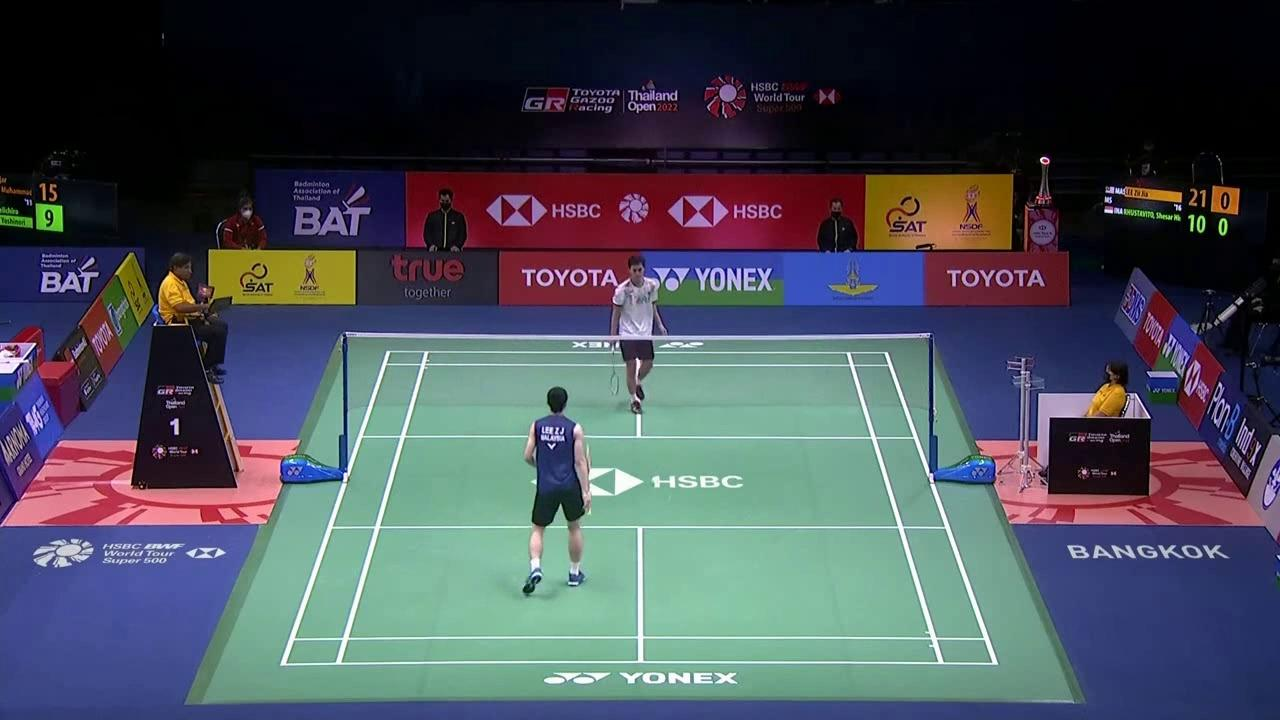racket: (608, 332, 620, 397), (584, 440, 593, 516)
shuttle: (651, 475, 661, 484)
